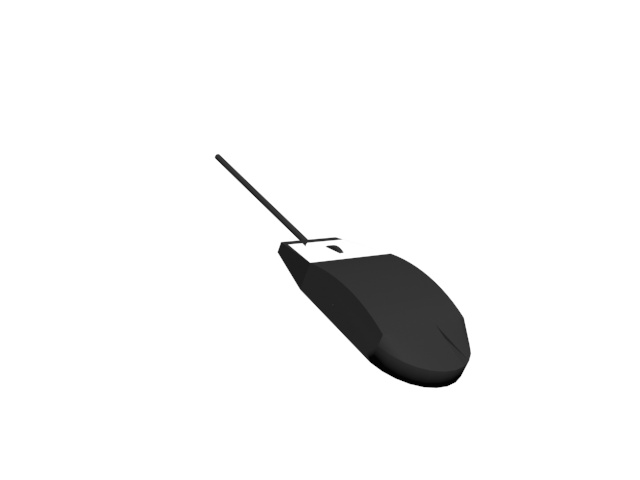mouse: (209, 153, 472, 392)
